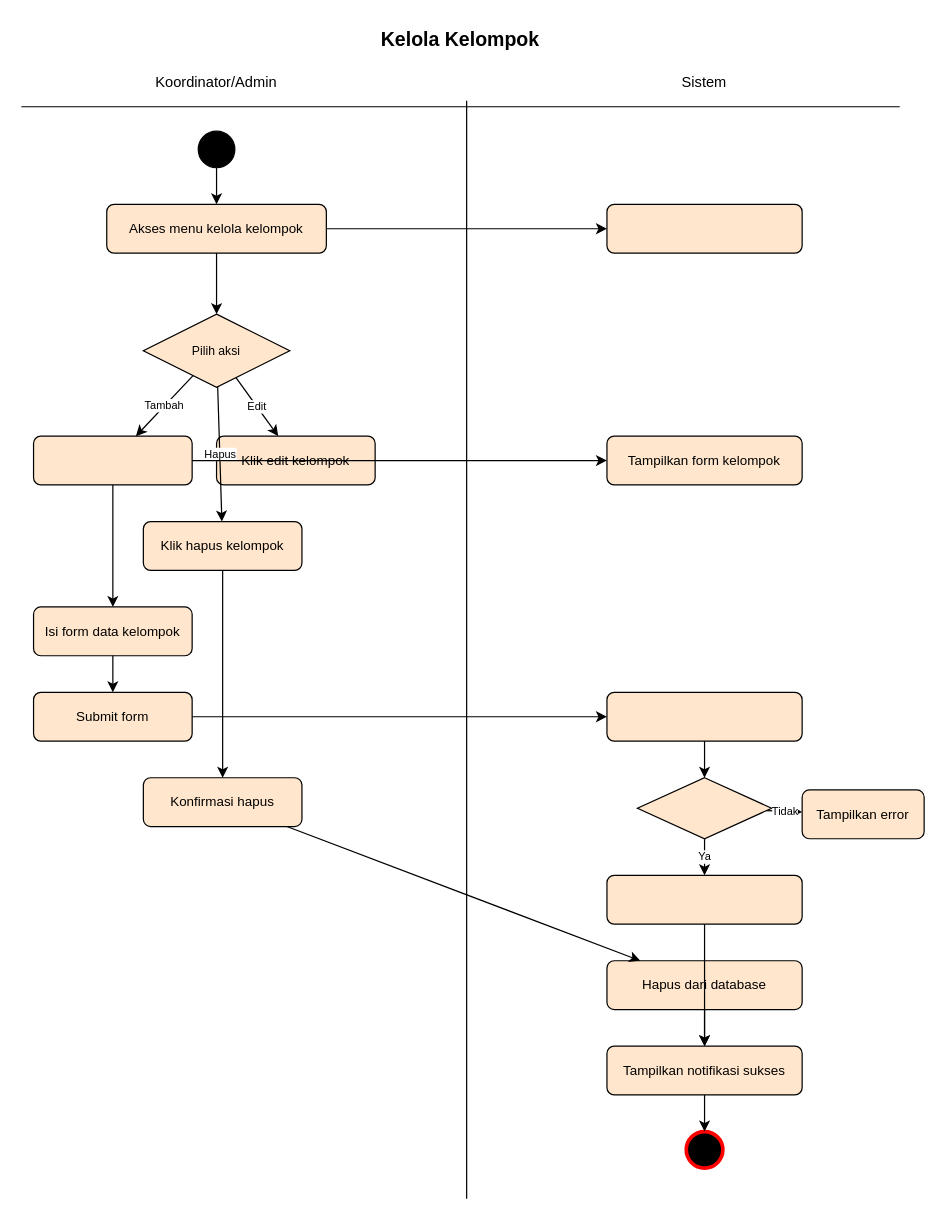
Some shapes in this 946 by 1220 pixel diagram are drawn without their labels. Each missing label, with the centre of its shape:
"Klik tambah kelompok" belongs at [112,460].
"Simpan ke database" belongs at [704,899].
"Tampilkan daftar kelompok" belongs at [704,228].
"Valid?" belongs at [704,808].
"Validasi data" belongs at [704,716].
